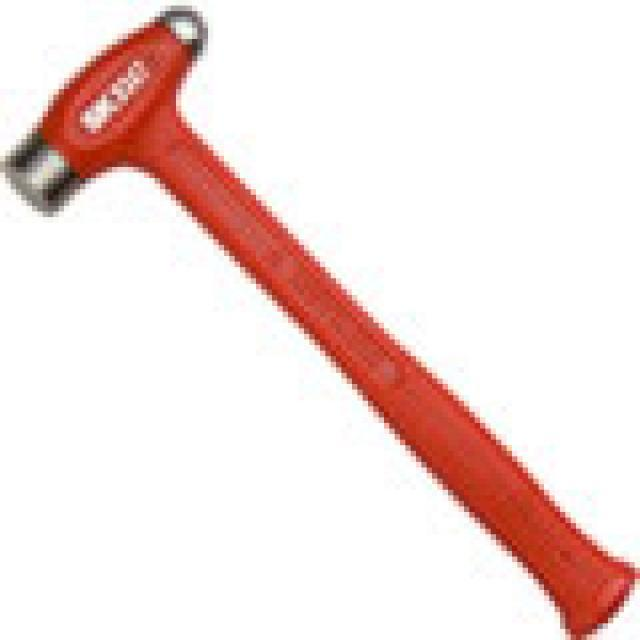hammer: (0, 3, 634, 632)
